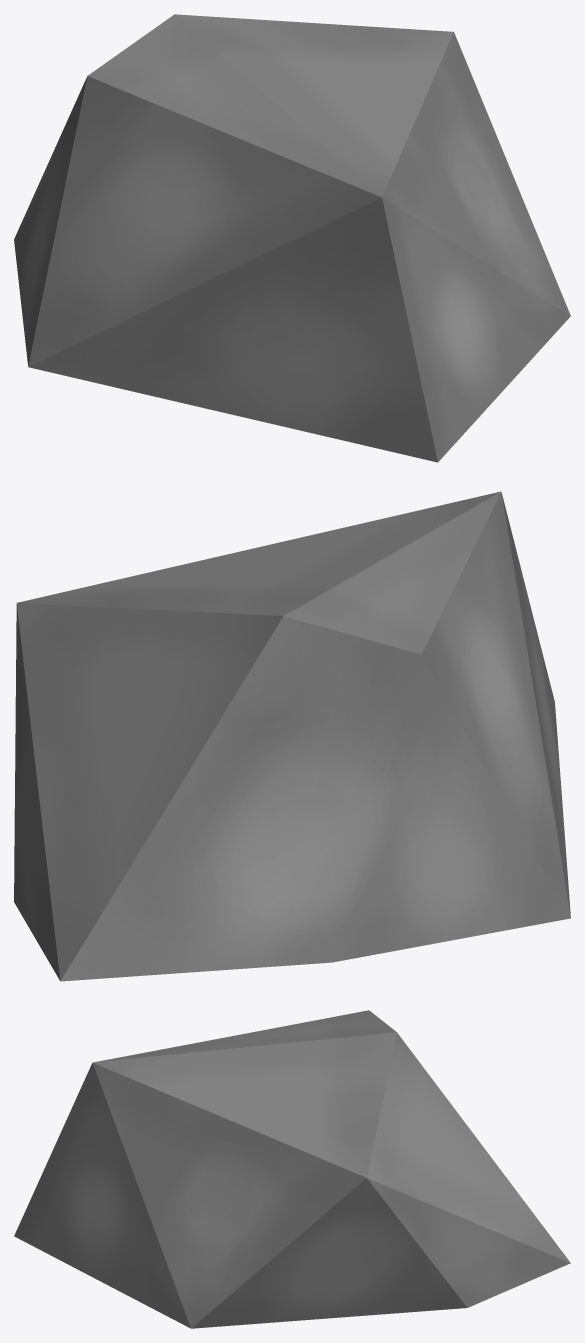
File: caillou.dae
3 views of the same model, one above another, from view 1: azimuth 30°, elevation 25°; view 2: azimuth 150°, elevation 25°; view 3: azimuth 270°, elevation 25° (orthographic). The views are drawn at different scales.
Visible parts, largest first — view 1: Icosphere; view 2: Icosphere; view 3: Icosphere.
Boxes of the visible parts, x1,y1,x2,y2 form: Icosphere: (14,14,570,462); Icosphere: (14,491,570,981); Icosphere: (14,1010,570,1328).
Bounding box in the file's own units: 1.31 × 1.81 × 0.7311.
1 material, 1 textured.
